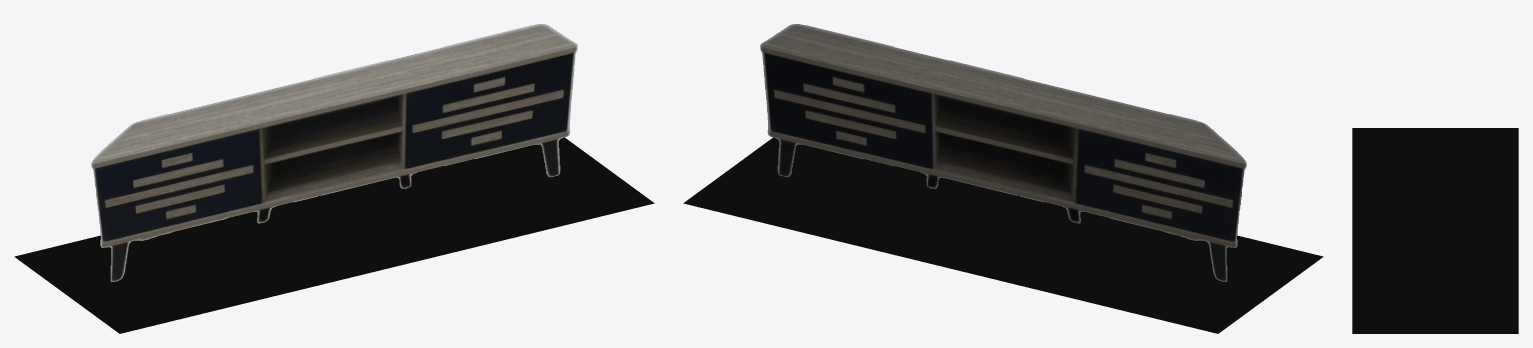
File: arm-cfef05ed9a.glb
3 views of the same model, side by side, from view 1: azimuth 30°, elevation 25°; view 2: azimuth 150°, elevation 25°; view 3: azimuth 270°, elevation 25° (orthographic). The views are drawn at different scales.
Size of the model in its own units: 1.76 by 0.4944 by 0.602.
Materials: 2 (2 with a texture image).
